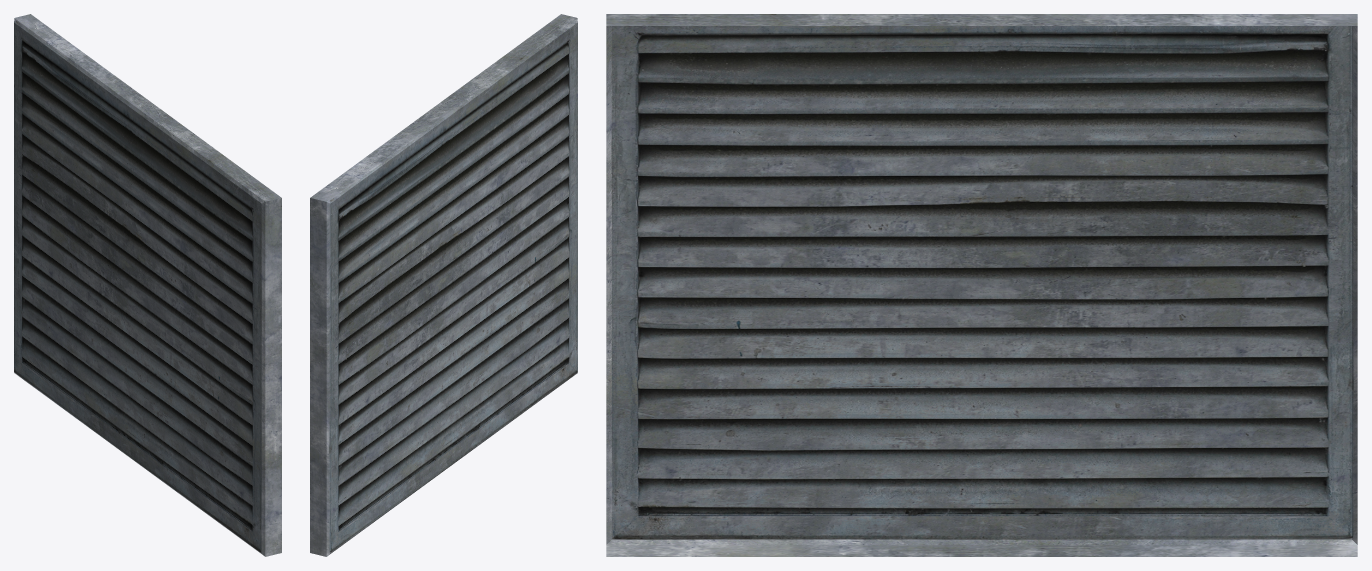
File: Vent.fbx
3 views of the same model, side by side, from view 1: azimuth 30°, elevation 25°; view 2: azimuth 150°, elevation 25°; view 3: azimuth 270°, elevation 25° (orthographic). The views are drawn at different scales.
Visible parts, largest first — view 1: Vent; view 2: Vent; view 3: Vent.
Part boxes in pixels (bbox=[...]): Vent: bbox=[14, 14, 281, 556]; Vent: bbox=[310, 14, 577, 556]; Vent: bbox=[606, 14, 1357, 556].
Bounding box in the file's own units: 0.021 × 0.3854 × 0.4942.
